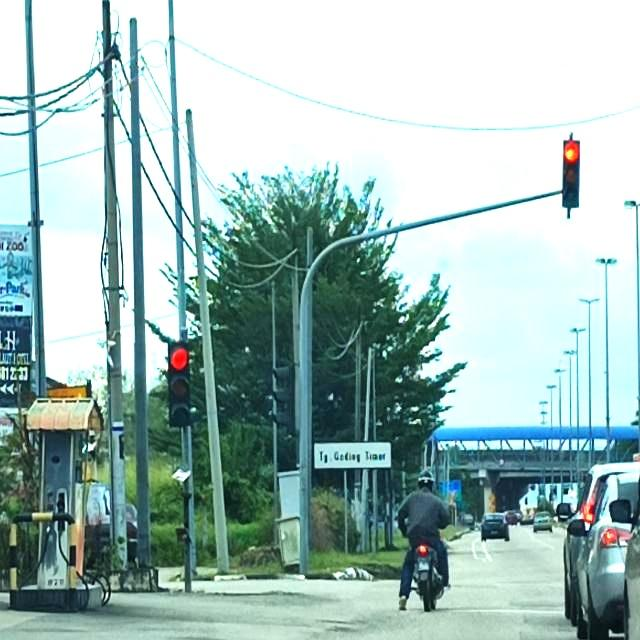Red: (168, 340, 190, 428), (562, 140, 581, 209)
